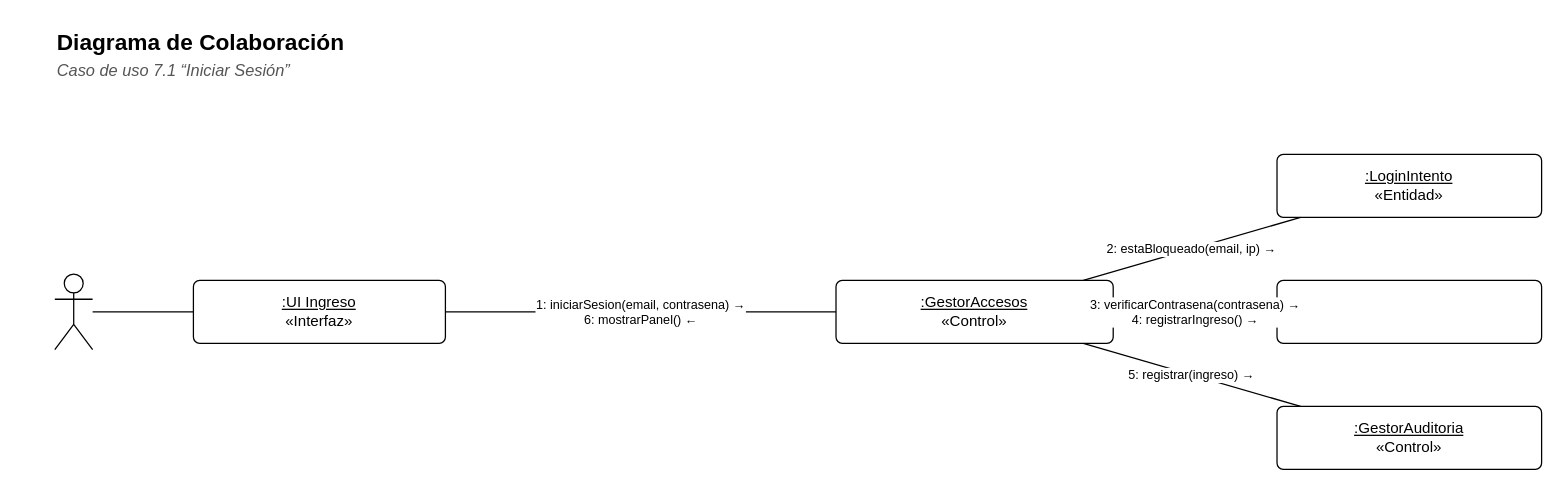
This 1564x491 diagram has some shape labels left out. Here are the shapes that lost their labels. From the top down, the centre of each, then its label:
At point 73,311: "Administrador".
At point 1409,311: ":Usuario «Entidad»".
